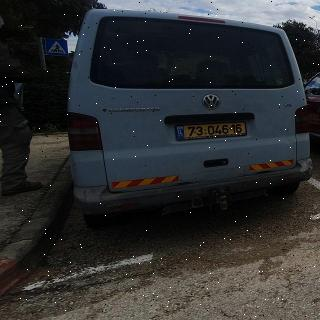LicensePlate: (183, 122, 246, 137)
